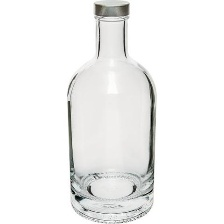bottle: (65, 0, 167, 223)
